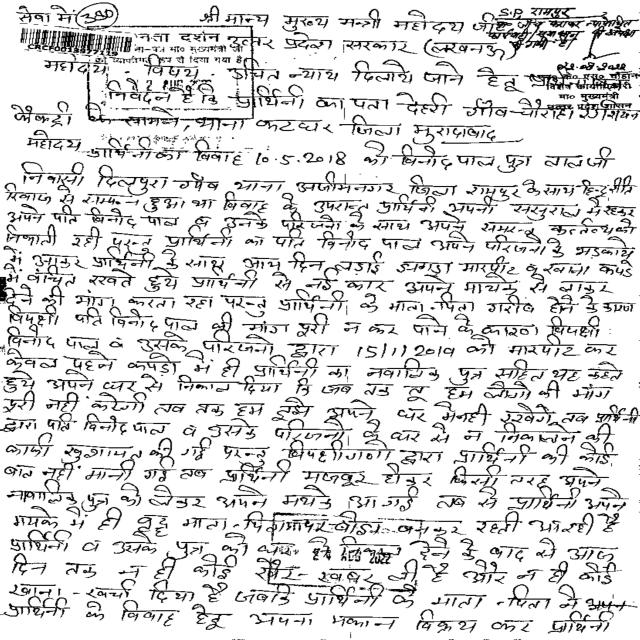barcode: (12, 28, 140, 60)
